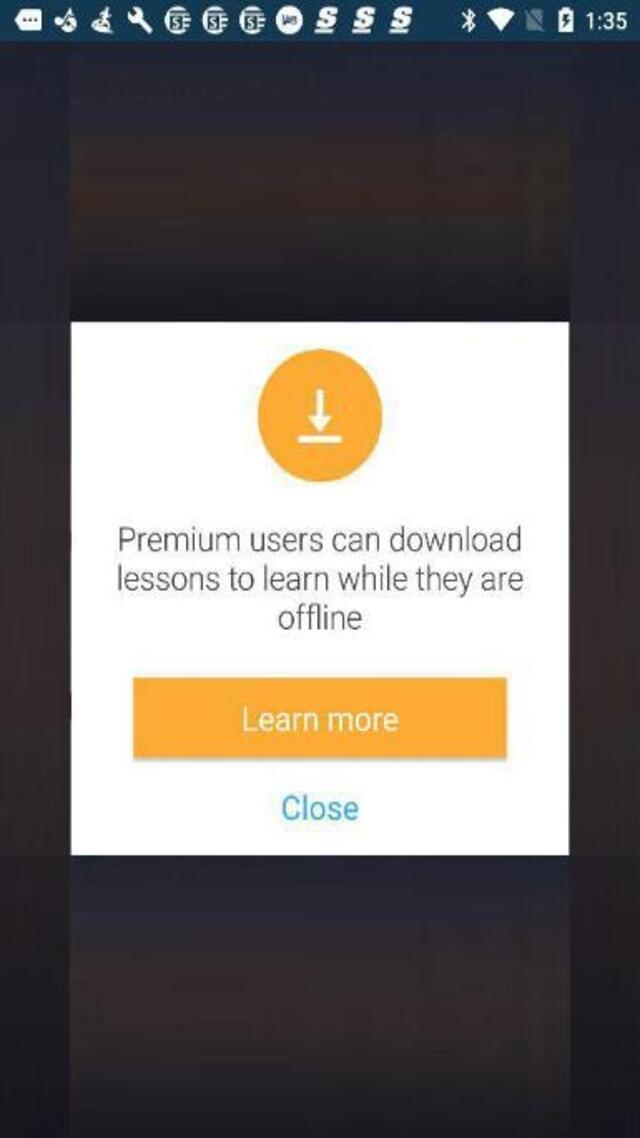Icon: (258, 349, 380, 480)
Text: (110, 559, 527, 597), (110, 523, 524, 557), (238, 703, 402, 736), (267, 598, 367, 637), (281, 793, 359, 824)
TextButton: (132, 677, 506, 756)
